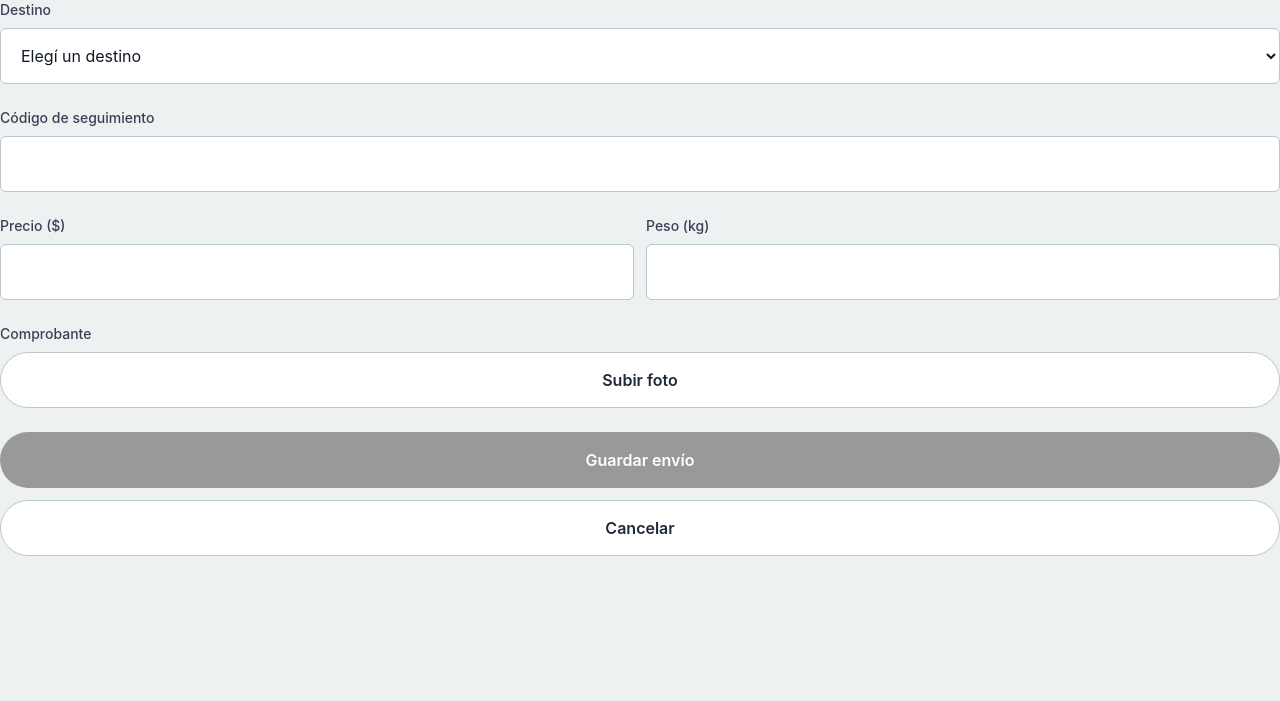
Test: TrackingEditor › shows backend field errors from err.body
Select "AMBA" in the dropdown labelled "Destino". click: (640, 56)
box: [0,28,1279,84]
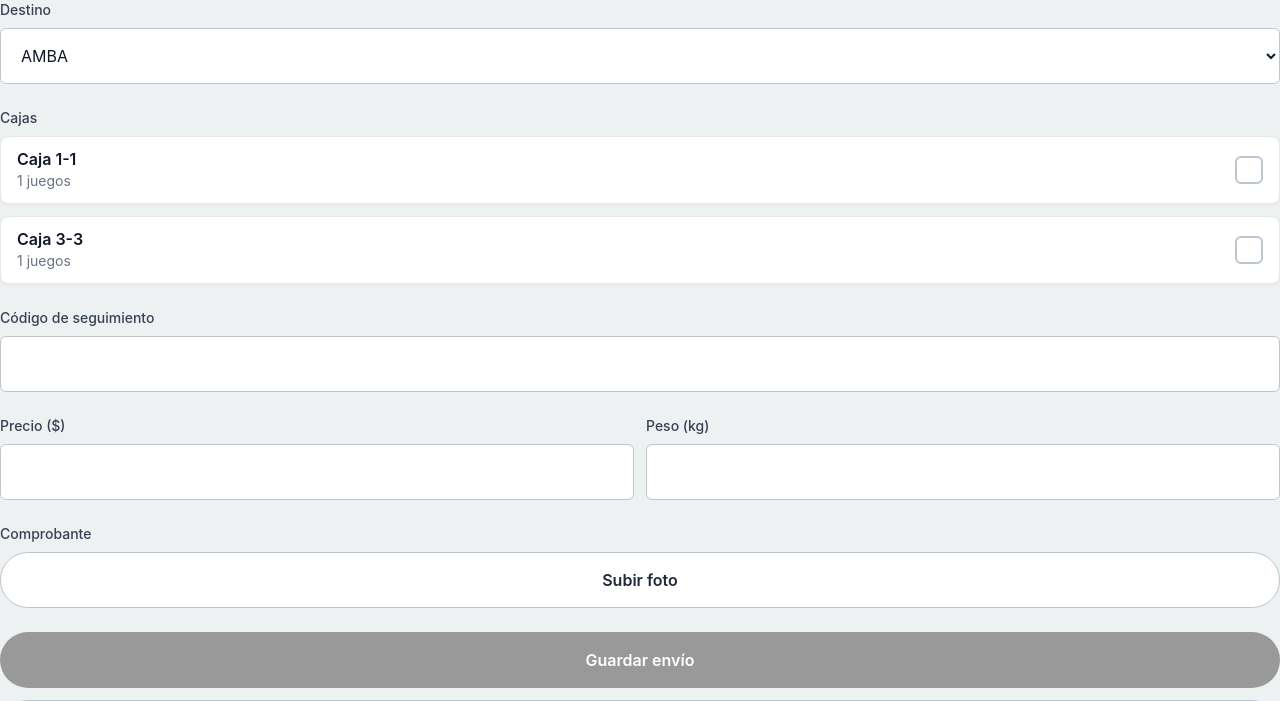
Click the checkbox labelled "Caja 1-1 1 juegos". click: (47, 159)
box: [0,136,1279,204]
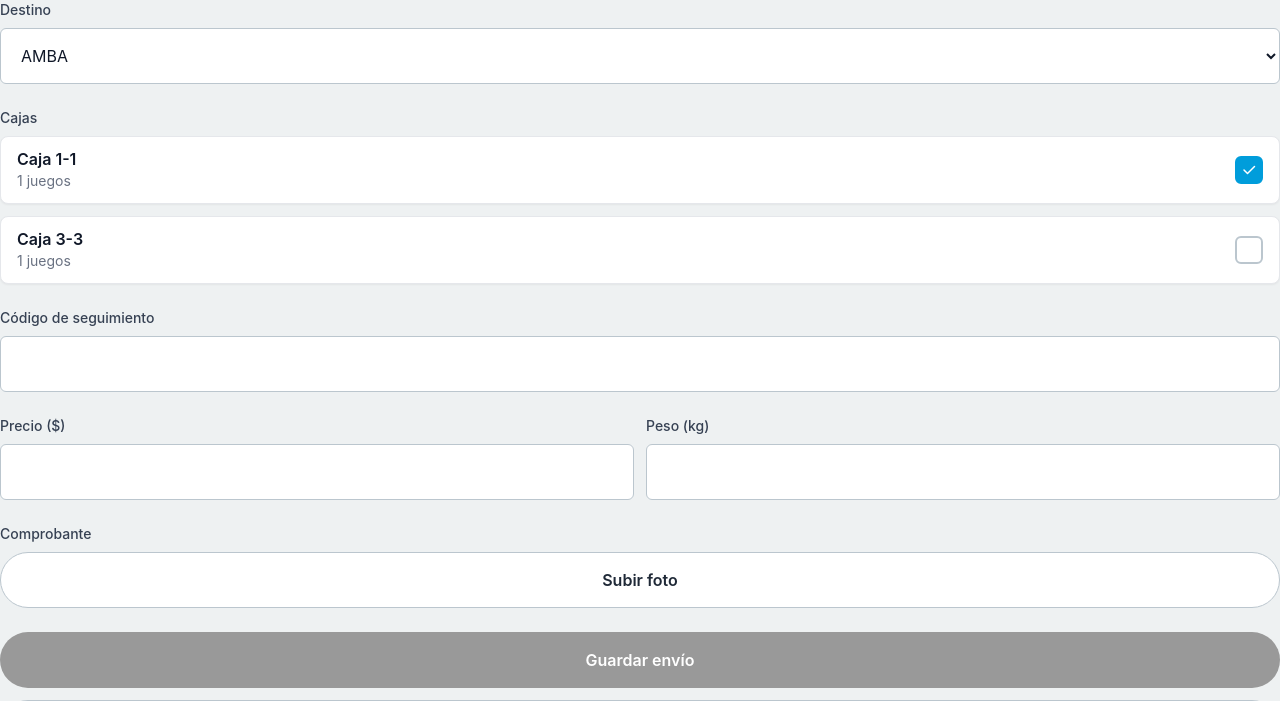
Type "AR1" into the field labelled "Código de seguimiento". click: (640, 364)
box: [0,336,1279,392]
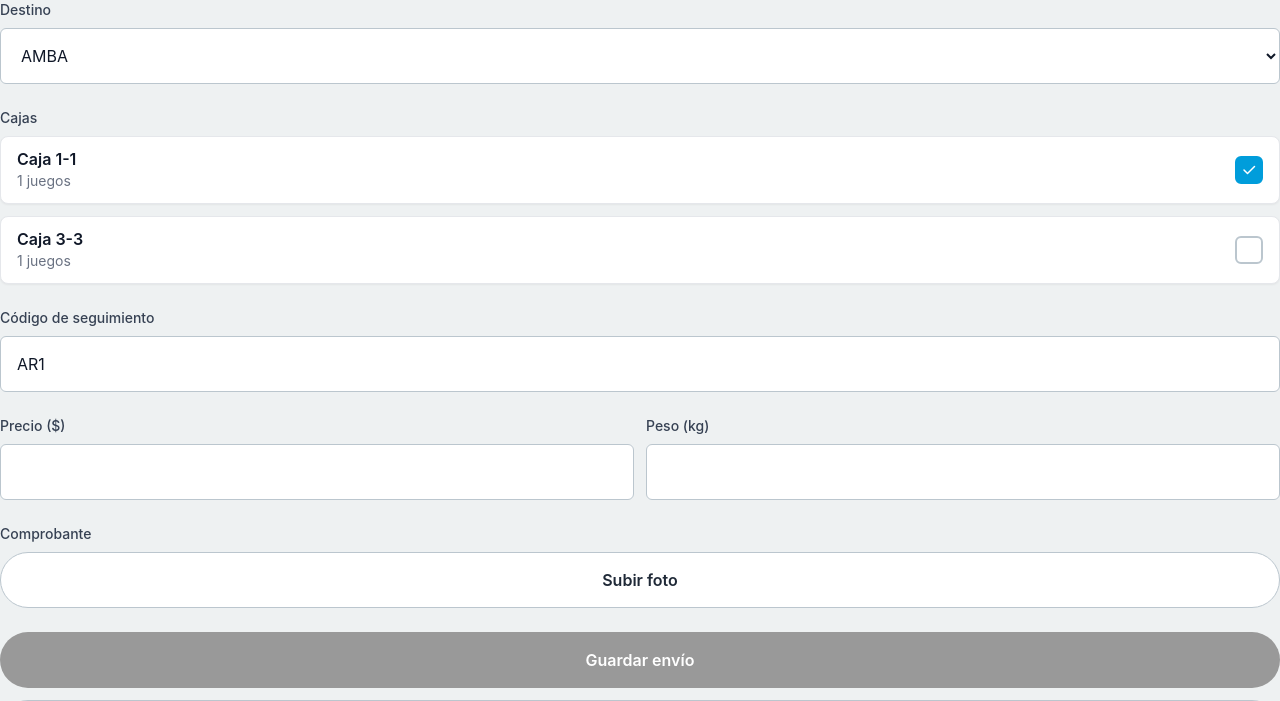
Type "1" into the number field labelled "Precio ($)". click: (317, 472)
box: [0,444,634,500]
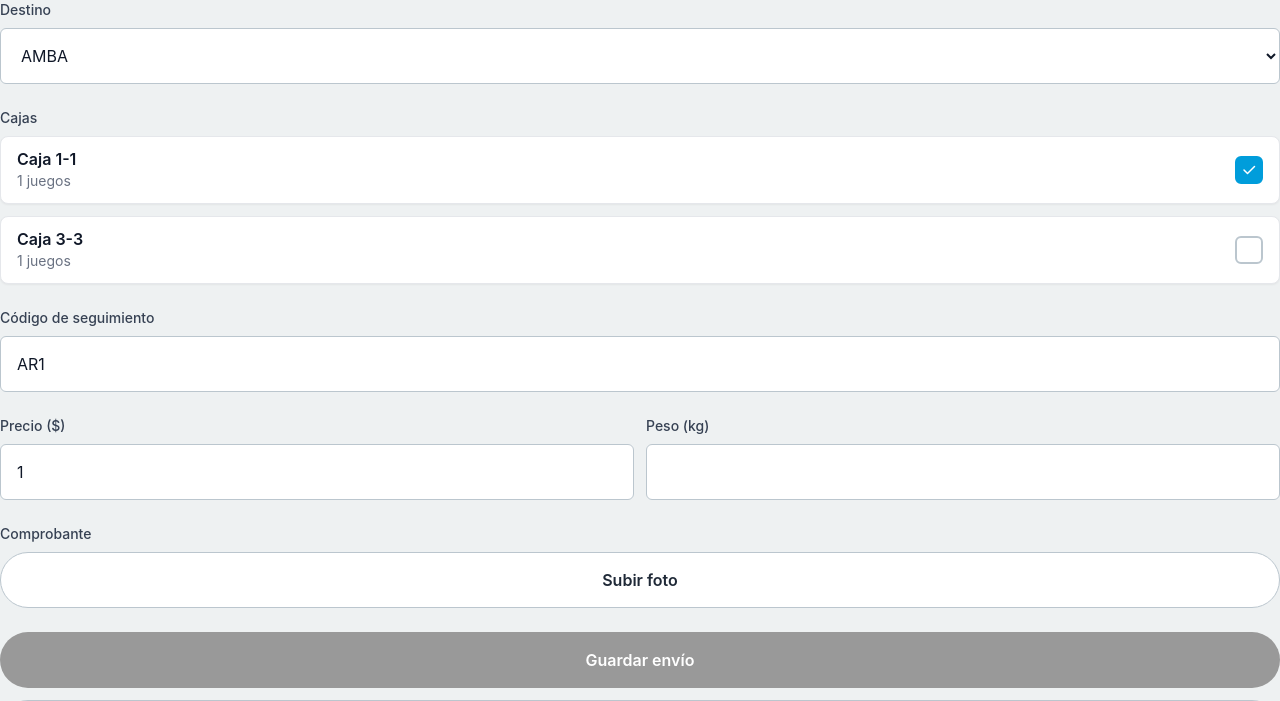
Type "1" into the number field labelled "Peso (kg)". click: (963, 472)
box: [646,444,1279,500]
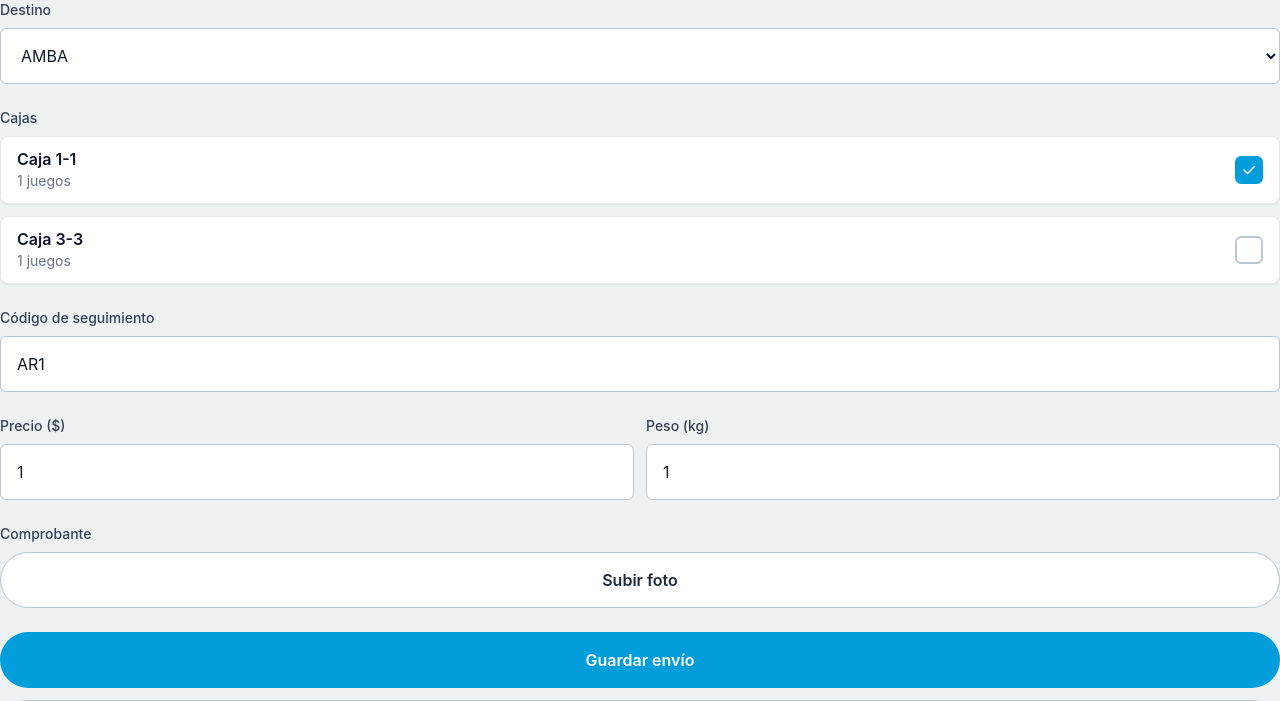
Click the button "Guardar envío". click: (640, 660)
box: [0,632,1279,688]
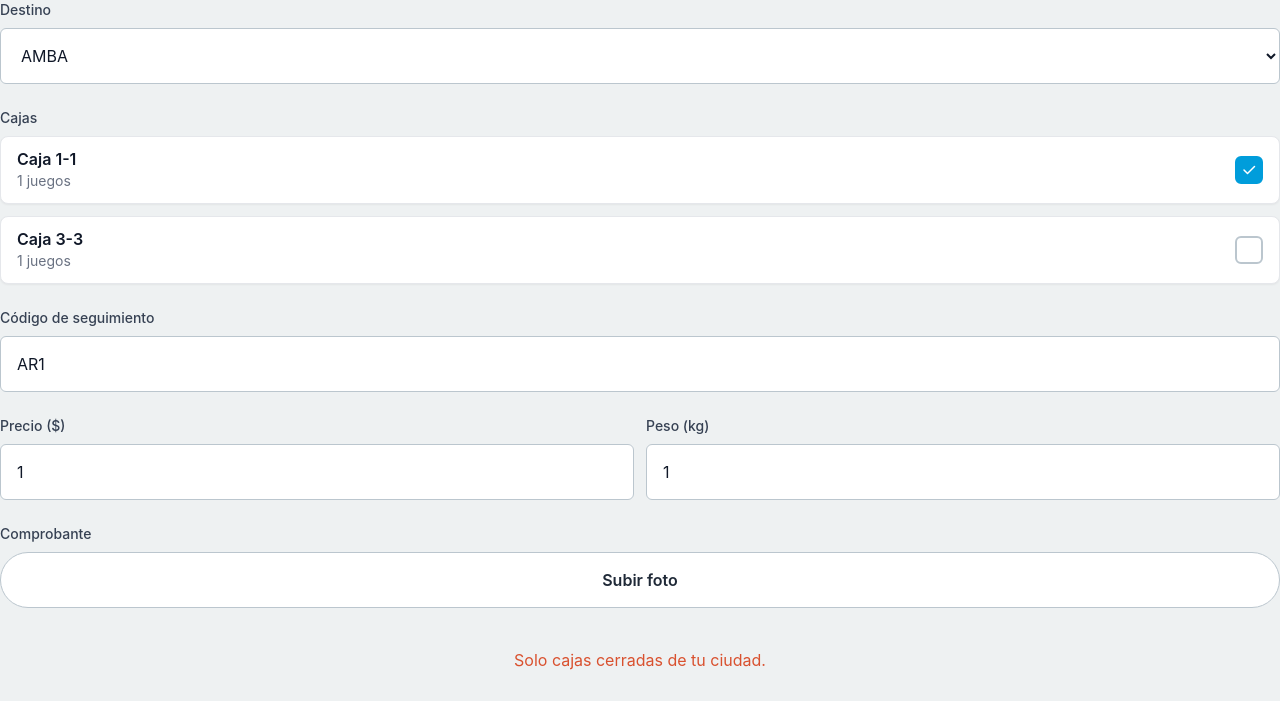
expect the text "Solo cajas cerradas de tu ciudad." is shown: met, box [514,650,766,670]
